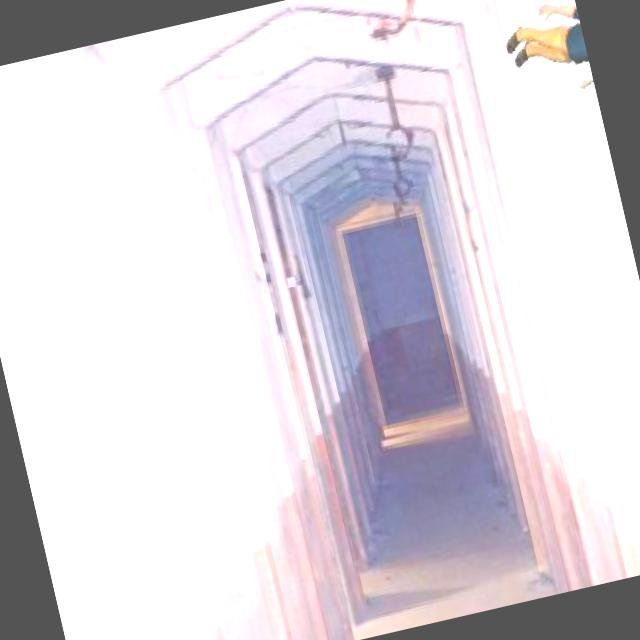Person: (492, 0, 595, 111)
